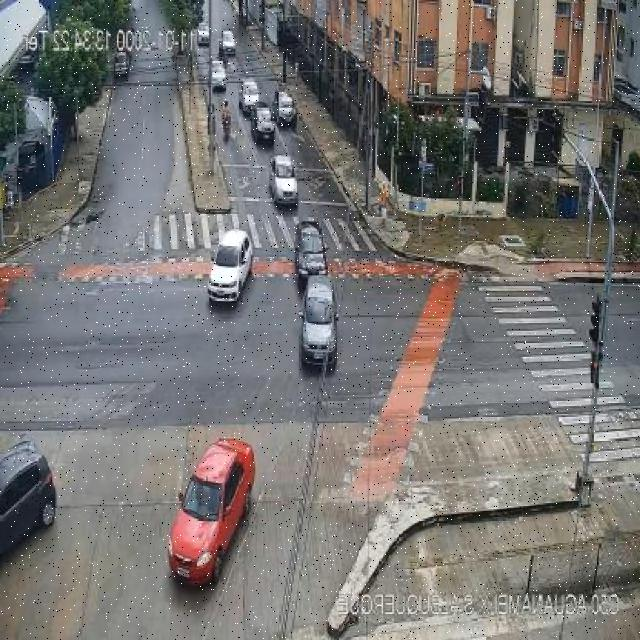car: (167, 440, 256, 585), (0, 444, 57, 560), (298, 276, 338, 370), (207, 230, 255, 304), (294, 219, 329, 284), (270, 157, 298, 203), (274, 92, 298, 125), (254, 104, 274, 141), (208, 58, 226, 94), (242, 81, 260, 112), (220, 30, 234, 56), (198, 20, 211, 45), (116, 53, 129, 76)
motorbike: (380, 178, 388, 230), (223, 99, 231, 141), (294, 57, 302, 85)
